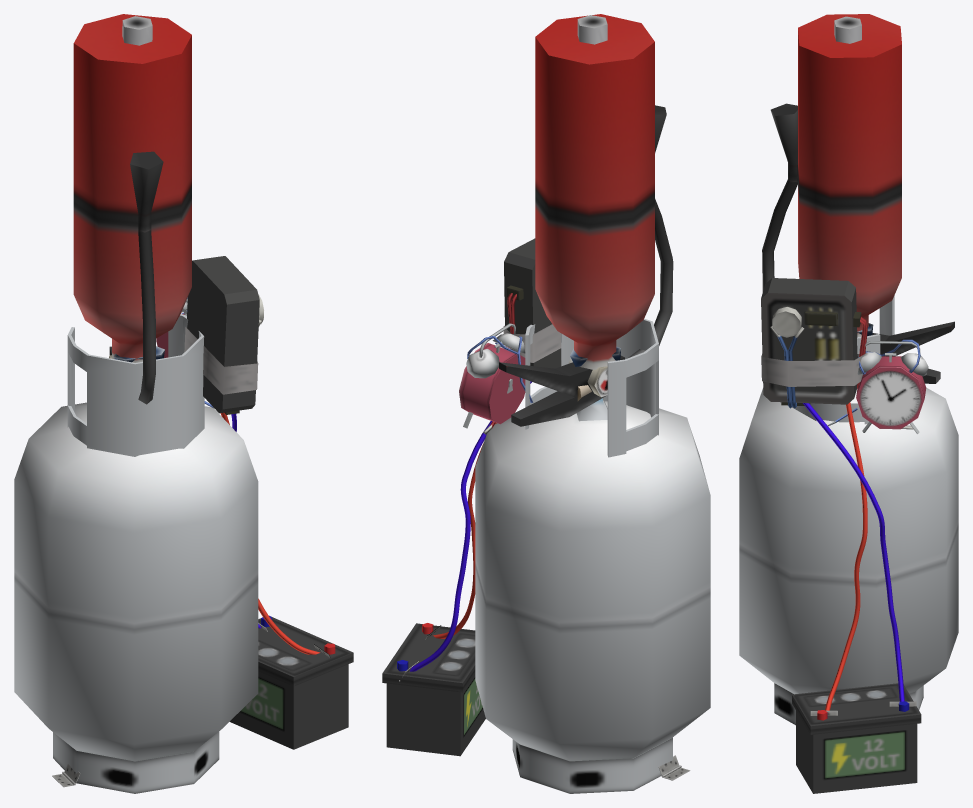
File: model_DistillLargeNewColumn_Ground.fbx
3 views of the same model, side by side, from view 1: azimuth 30°, elevation 25°; view 2: azimuth 150°, elevation 25°; view 3: azimuth 270°, elevation 25° (orthographic). The views are drawn at different scales.
Parts seen in each view (by area): view 1: PropaneTank; view 2: PropaneTank; view 3: PropaneTank.
Boxes of the visible parts, x1,y1,x2,y2 form: PropaneTank: (14,14,353,793); PropaneTank: (382,14,710,793); PropaneTank: (739,14,958,793).
Bounding box in the file's own units: 1.25 × 2.95 × 0.8567.
